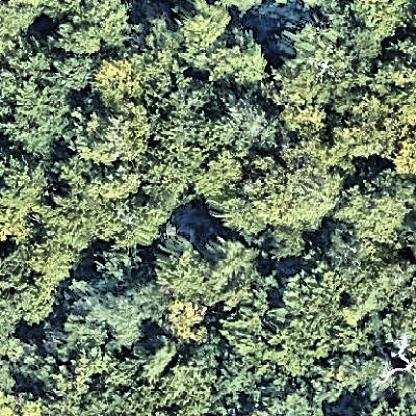tree-top: (273, 21, 367, 109), (78, 267, 175, 351), (1, 50, 82, 144), (224, 109, 301, 191), (161, 234, 246, 307), (216, 319, 337, 369), (332, 252, 414, 325), (269, 151, 340, 228), (73, 96, 154, 163), (43, 1, 132, 60), (280, 260, 355, 328), (1, 152, 51, 248), (119, 184, 185, 248), (145, 153, 231, 202), (153, 360, 227, 416), (340, 180, 405, 242), (54, 192, 123, 247), (161, 105, 227, 156), (92, 58, 150, 111), (376, 36, 416, 105), (338, 110, 391, 162), (212, 35, 265, 86), (162, 298, 216, 348), (176, 2, 234, 47), (1, 243, 28, 339), (350, 1, 411, 39), (384, 108, 416, 180)
